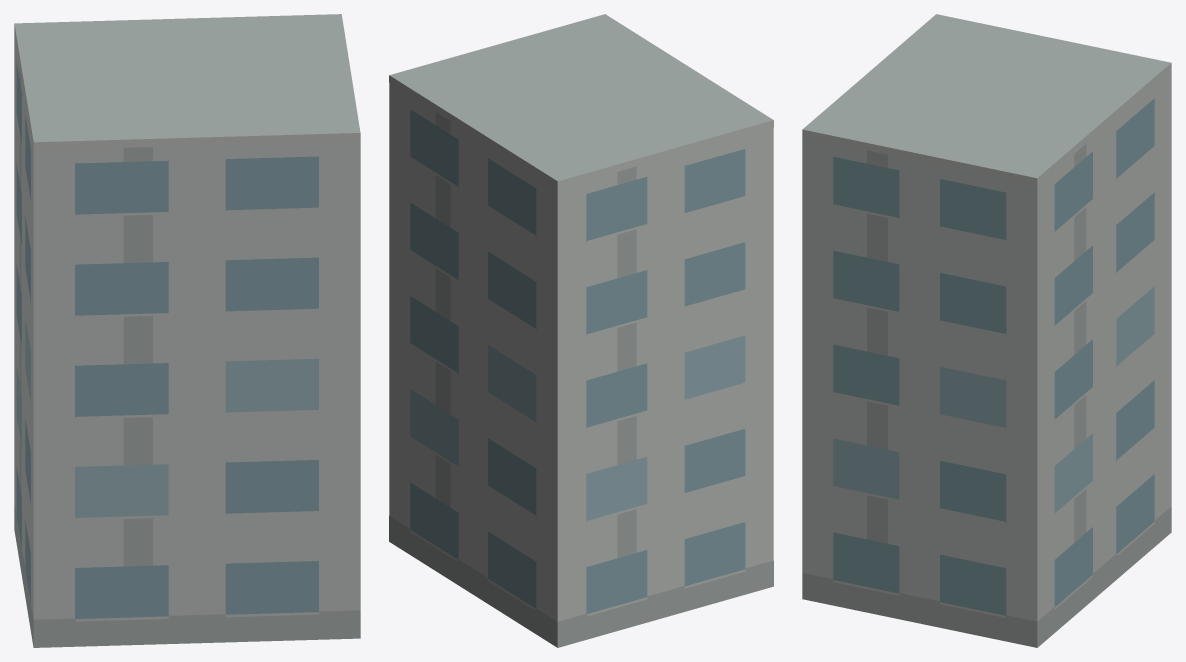
The model's file is residential-698c5389-3568-4fe5-8d78-93d305c24417.glb.
3 renders of one model, left to right at view 1: azimuth 30°, elevation 25°; view 2: azimuth 150°, elevation 25°; view 3: azimuth 270°, elevation 25°, orthographic. The views are drawn at different scales.
Visible parts, largest first — view 1: residential-698c5389-3568-4fe5-8d78-93d305c24417.tmp; view 2: residential-698c5389-3568-4fe5-8d78-93d305c24417.tmp; view 3: residential-698c5389-3568-4fe5-8d78-93d305c24417.tmp.
Part boxes in pixels (x1,y1,x2,y2): residential-698c5389-3568-4fe5-8d78-93d305c24417.tmp: (14,14,360,647); residential-698c5389-3568-4fe5-8d78-93d305c24417.tmp: (389,14,773,647); residential-698c5389-3568-4fe5-8d78-93d305c24417.tmp: (802,14,1171,647).
Size of the model in its own units: 11.45 by 15.25 by 10.88.
